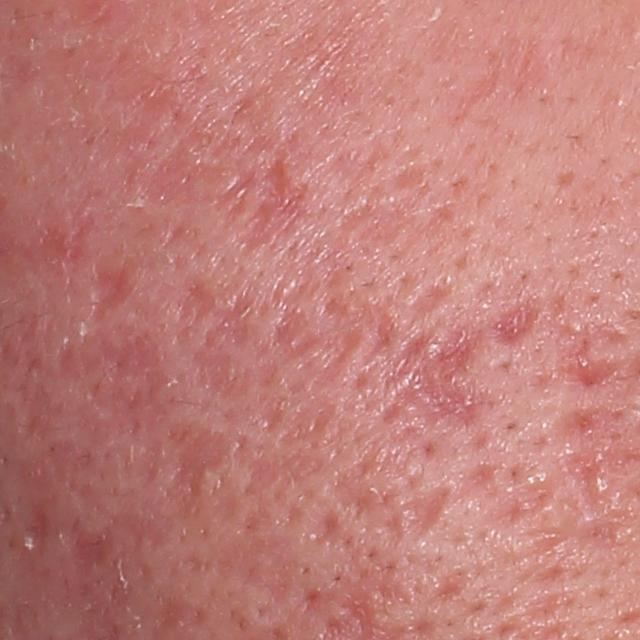atrophic_scar: (375, 324, 500, 433), (208, 133, 309, 257), (185, 508, 304, 604), (44, 335, 170, 416), (559, 402, 626, 524), (162, 421, 248, 509), (283, 325, 369, 402), (79, 254, 147, 339), (270, 264, 318, 354), (189, 348, 255, 410), (558, 335, 624, 394), (170, 278, 218, 354), (200, 284, 253, 352), (404, 478, 453, 545), (278, 395, 339, 446), (244, 455, 322, 493), (492, 296, 546, 348), (65, 520, 116, 572), (15, 496, 51, 564), (406, 285, 455, 318)
